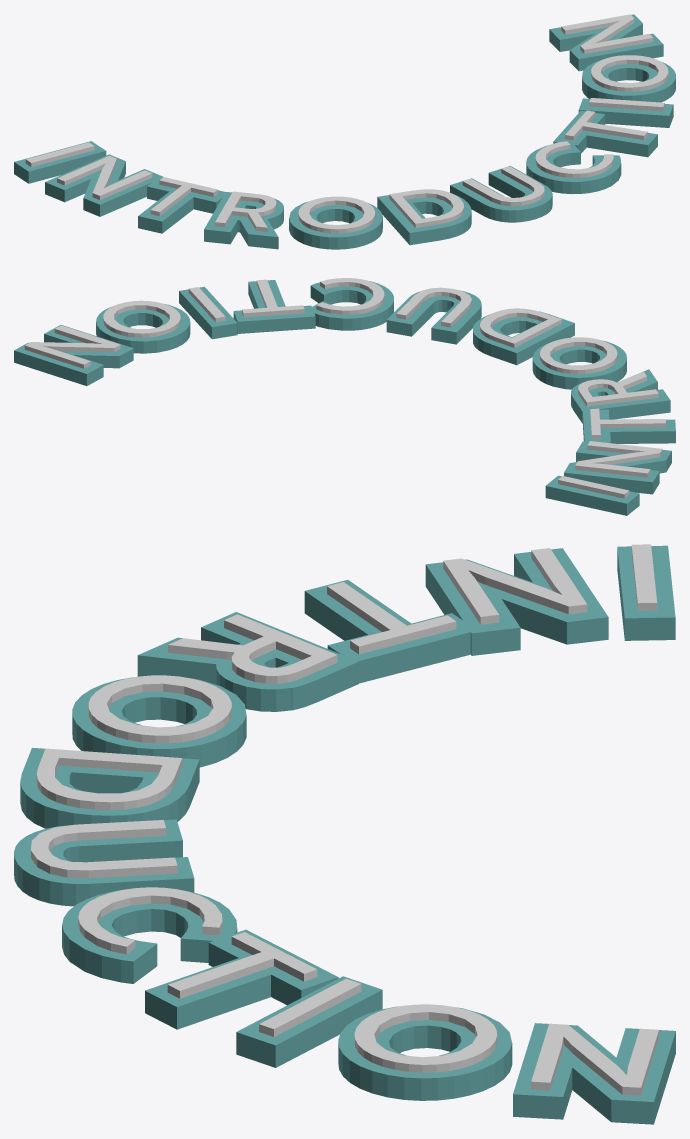
Rendered from SIDE1-title.glb.
3 views of the same model, one above another, from view 1: azimuth 30°, elevation 25°; view 2: azimuth 150°, elevation 25°; view 3: azimuth 270°, elevation 25° (orthographic). The views are drawn at different scales.
Parts seen in each view (by area): view 1: Mesh_Mesh_head_geo.001_lambert2SG.001; view 2: Mesh_Mesh_head_geo.001_lambert2SG.001; view 3: Mesh_Mesh_head_geo.001_lambert2SG.001.
Boxes of the visible parts, bbox=[...] form: Mesh_Mesh_head_geo.001_lambert2SG.001: bbox=[14, 14, 675, 249]; Mesh_Mesh_head_geo.001_lambert2SG.001: bbox=[14, 278, 675, 515]; Mesh_Mesh_head_geo.001_lambert2SG.001: bbox=[14, 544, 675, 1124].
Size of the model in its own units: 193 by 4.92 by 97.22.
